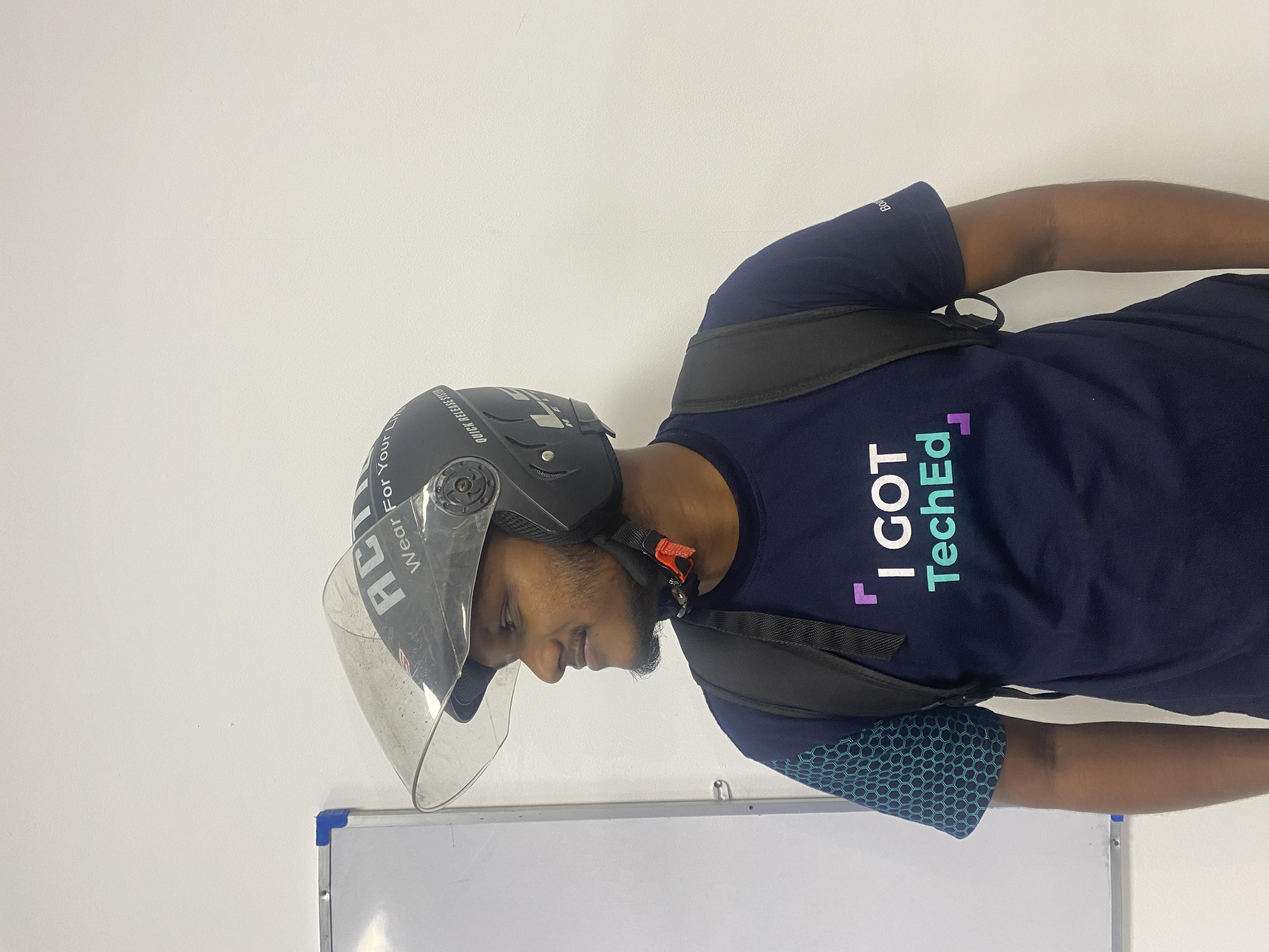helmet: (194, 244, 771, 498)
